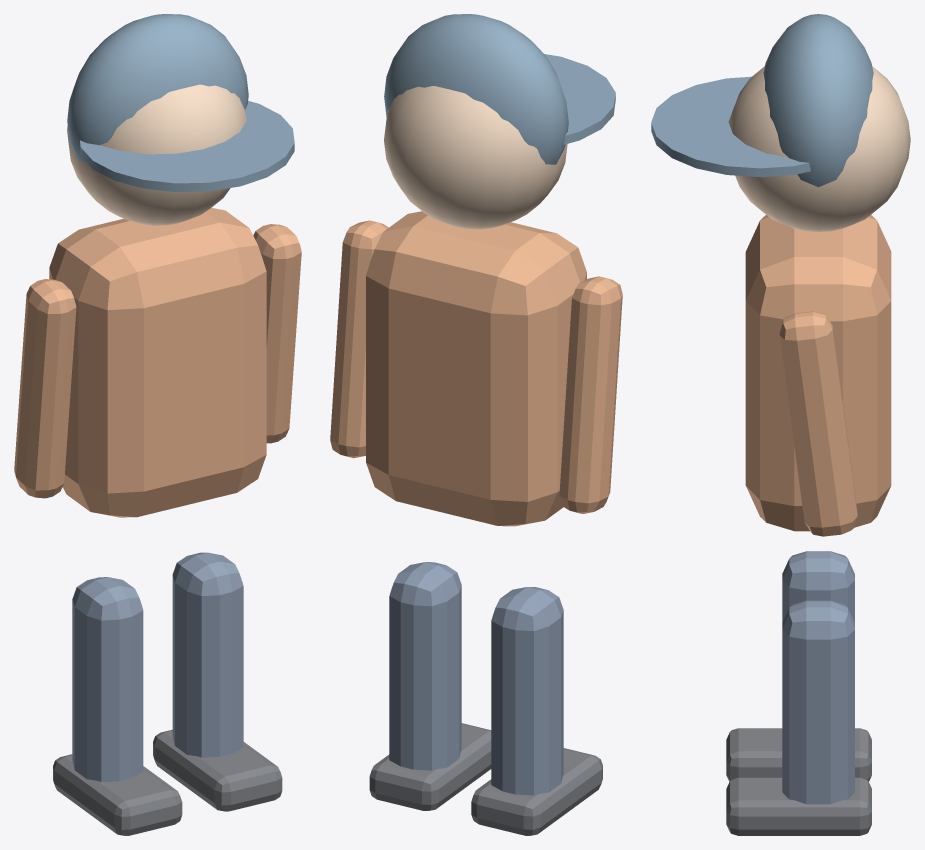
File: avatar.glb
3 views of the same model, side by side, from view 1: azimuth 30°, elevation 25°; view 2: azimuth 150°, elevation 25°; view 3: azimuth 270°, elevation 25° (orthographic).
Parts seen in each view (by area): view 1: torso, leg1.001, leg-1, cap, head.001, arm-1, brim, arm1, shoeR, shoeL; view 2: torso, head.001, cap, leg1.001, leg-1, arm-1, arm1, shoeL, shoeR, brim; view 3: torso, leg1.001, head.001, cap, arm1, brim, shoeR, leg-1, shoeL.
Boxes of the visible parts, x1,y1,x2,y2 form: torso: [49, 208, 266, 517]; leg1.001: [172, 552, 243, 757]; leg-1: [72, 577, 143, 781]; cap: [67, 14, 248, 162]; head.001: [67, 84, 246, 225]; arm-1: [14, 279, 76, 498]; brim: [80, 101, 294, 192]; arm1: [253, 224, 301, 443]; shoeR: [153, 729, 282, 811]; shoeL: [53, 754, 182, 835]; torso: [366, 211, 586, 526]; head.001: [384, 86, 567, 229]; cap: [384, 14, 568, 164]; leg1.001: [389, 562, 461, 770]; leg-1: [491, 587, 563, 795]; arm-1: [559, 276, 622, 513]; arm1: [330, 220, 388, 458]; shoeL: [471, 748, 602, 835]; shoeR: [369, 723, 491, 810]; brim: [544, 54, 615, 144]; torso: [745, 215, 891, 531]; leg1.001: [782, 600, 854, 804]; head.001: [728, 66, 910, 231]; cap: [763, 14, 873, 187]; arm1: [779, 311, 857, 536]; brim: [651, 76, 810, 177]; shoeR: [726, 777, 871, 835]; leg-1: [782, 551, 854, 622]; shoeL: [726, 728, 871, 781].
Bounding box in the file's own units: 0.63 × 1.76 × 0.535.
